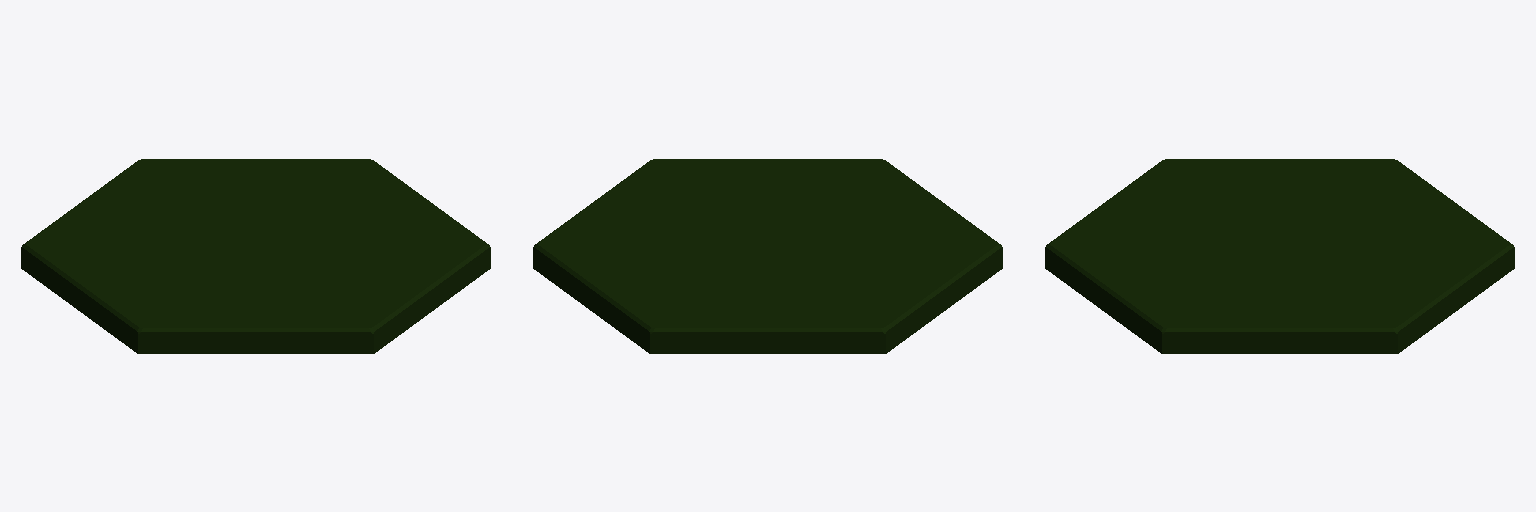
File: hex_tile.obj
3 views of the same model, side by side, from view 1: azimuth 30°, elevation 25°; view 2: azimuth 150°, elevation 25°; view 3: azimuth 270°, elevation 25° (orthographic).
Parts seen in each view (by area): view 1: hex_Cylinder; view 2: hex_Cylinder; view 3: hex_Cylinder.
Part boxes in pixels (x1,y1,x2,y2): hex_Cylinder: (21,159,490,353); hex_Cylinder: (533,159,1002,353); hex_Cylinder: (1045,159,1514,353).
Size of the model in its own units: 1.73 by 0.1161 by 2.